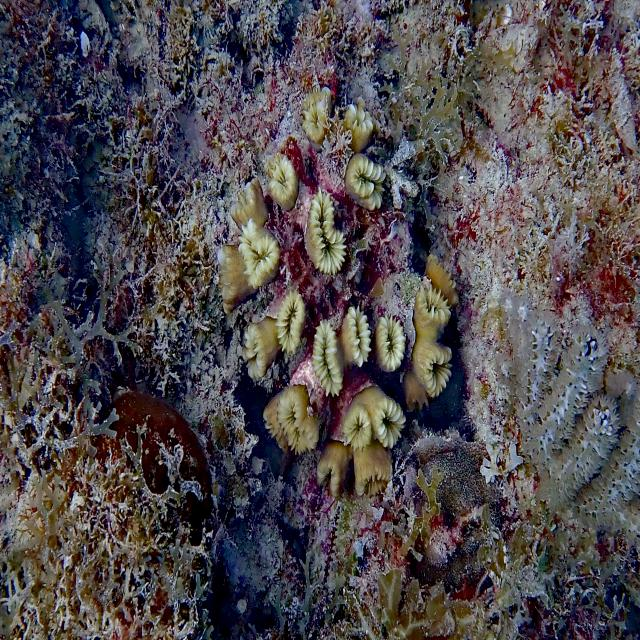Coral: (217, 86, 457, 501)
